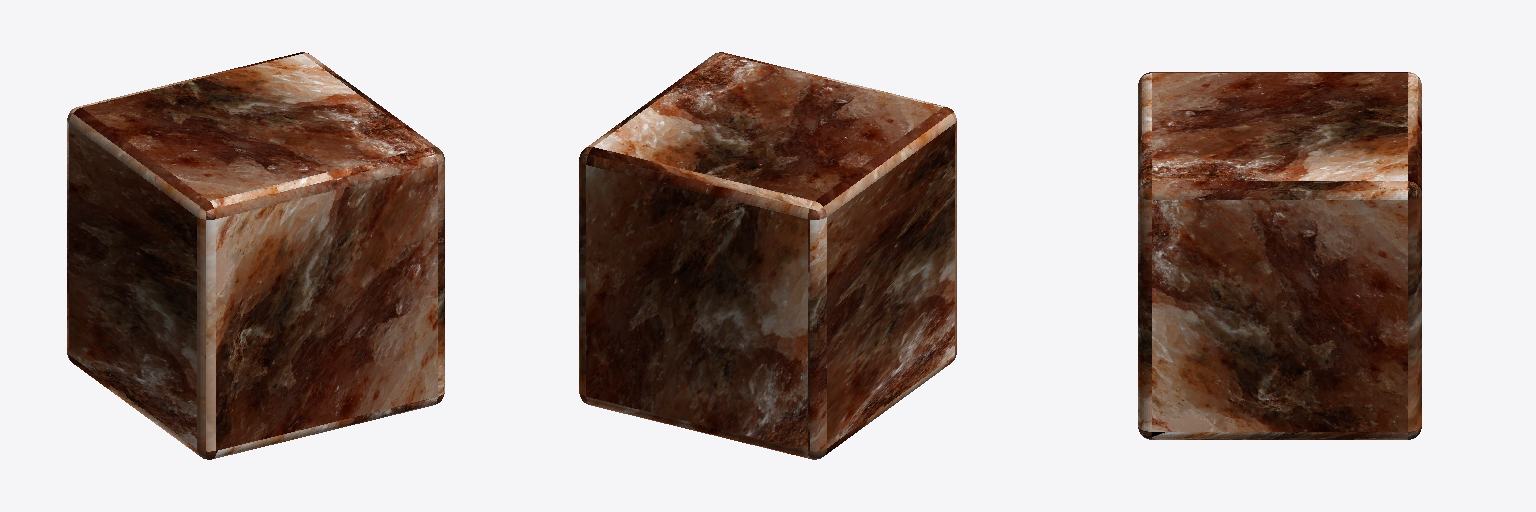
3 renders of one model, left to right at view 1: azimuth 30°, elevation 25°; view 2: azimuth 150°, elevation 25°; view 3: azimuth 270°, elevation 25°, orthographic.
Parts seen in each view (by area): view 1: Cube; view 2: Cube; view 3: Cube.
Boxes of the visible parts, x1,y1,x2,y2 form: Cube: [67, 52, 444, 459]; Cube: [579, 52, 956, 459]; Cube: [1138, 72, 1421, 439].
Bounding box in the file's own units: 2 × 2 × 2.
1 materials, 1 textured.